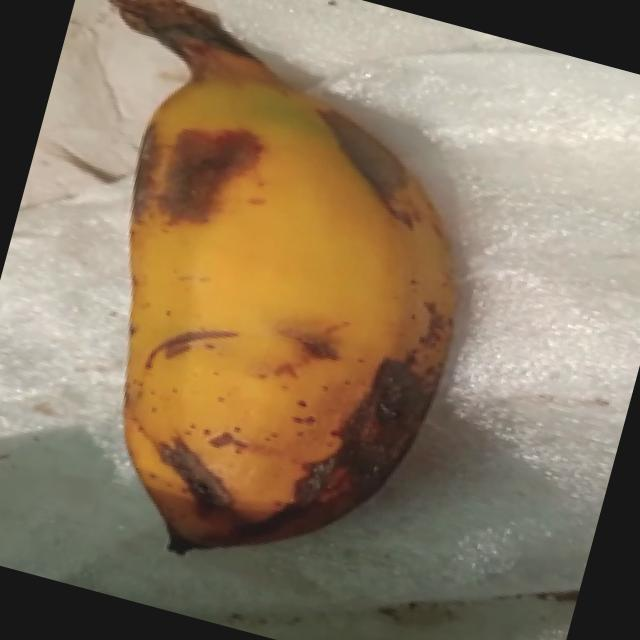Rotten_Banana: (0, 0, 530, 605)
